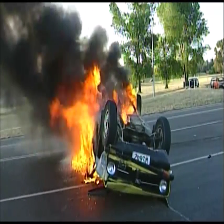fire_h: (50, 62, 108, 175), (120, 83, 139, 124)
fire_l: (84, 171, 101, 184), (113, 89, 118, 105)
